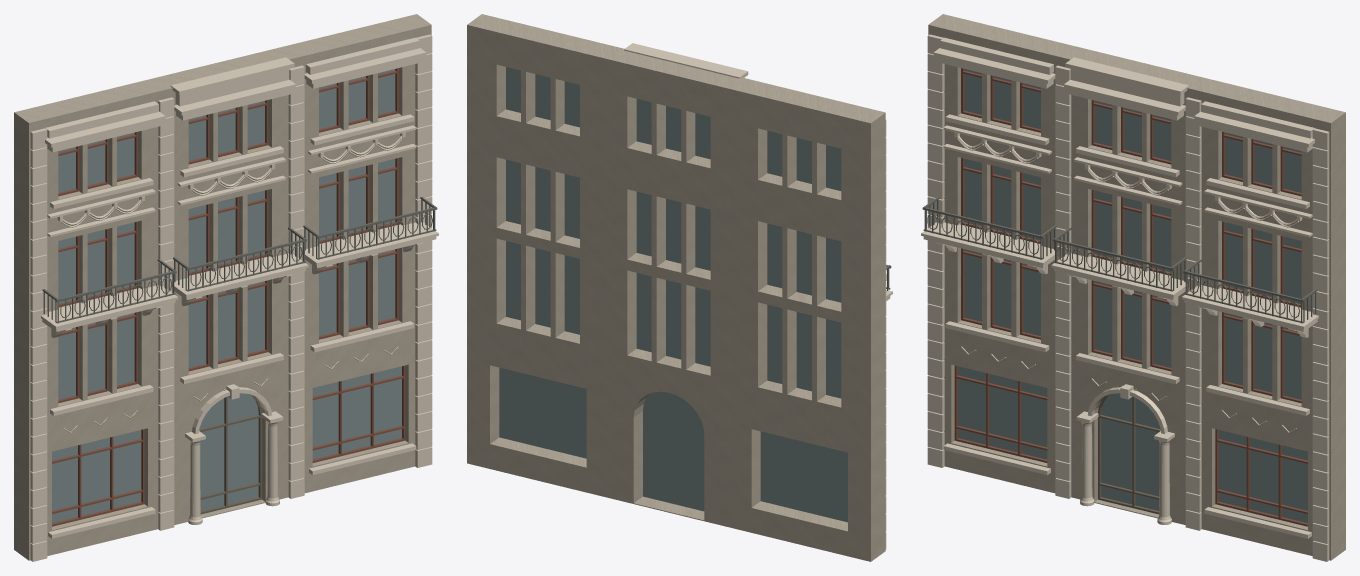
The model's file is huangpu-shanghai-money-guild-front-lod.glb.
3 views of the same model, side by side, from view 1: azimuth 30°, elevation 25°; view 2: azimuth 150°, elevation 25°; view 3: azimuth 330°, elevation 25° (orthographic).
Visible parts, largest first — view 1: 上海钱业公会大楼（宁波路三开间正面）; view 2: 上海钱业公会大楼（宁波路三开间正面）; view 3: 上海钱业公会大楼（宁波路三开间正面）.
Part boxes in pixels (x1,y1,x2,y2): 上海钱业公会大楼（宁波路三开间正面）: (14,14,438,561); 上海钱业公会大楼（宁波路三开间正面）: (467,14,892,561); 上海钱业公会大楼（宁波路三开间正面）: (921,14,1345,561).
Bounding box in the file's own units: 15.08 × 15.7 × 2.07.
Materials: 6 (1 with a texture image).
